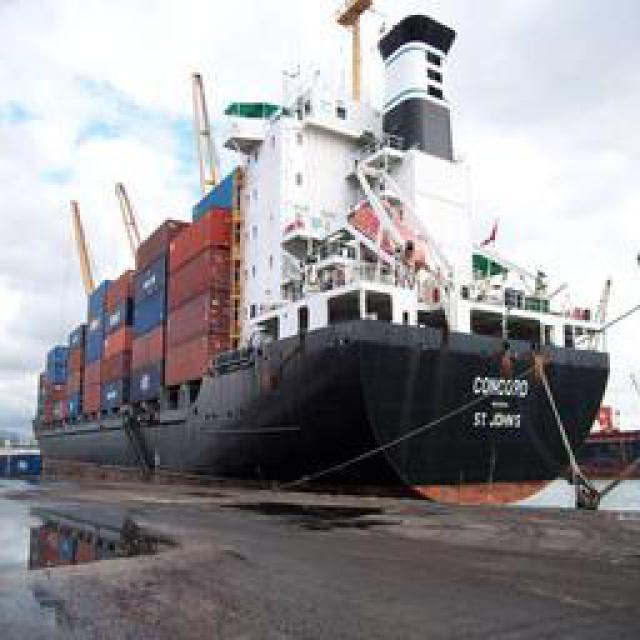Ship: (46, 43, 614, 501)
